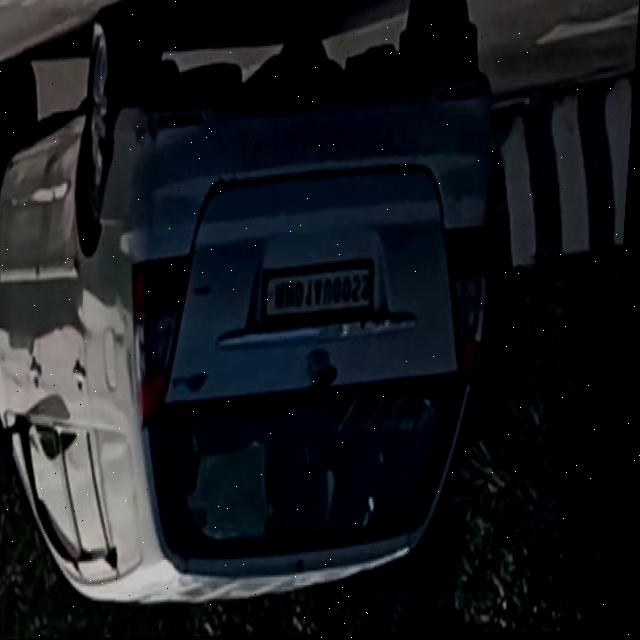plate: (261, 261, 380, 327)
